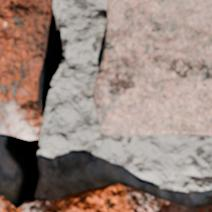brick: (93, 0, 211, 134), (0, 0, 51, 138)
broken_brick: (0, 183, 211, 211)
crack: (0, 2, 66, 209)
